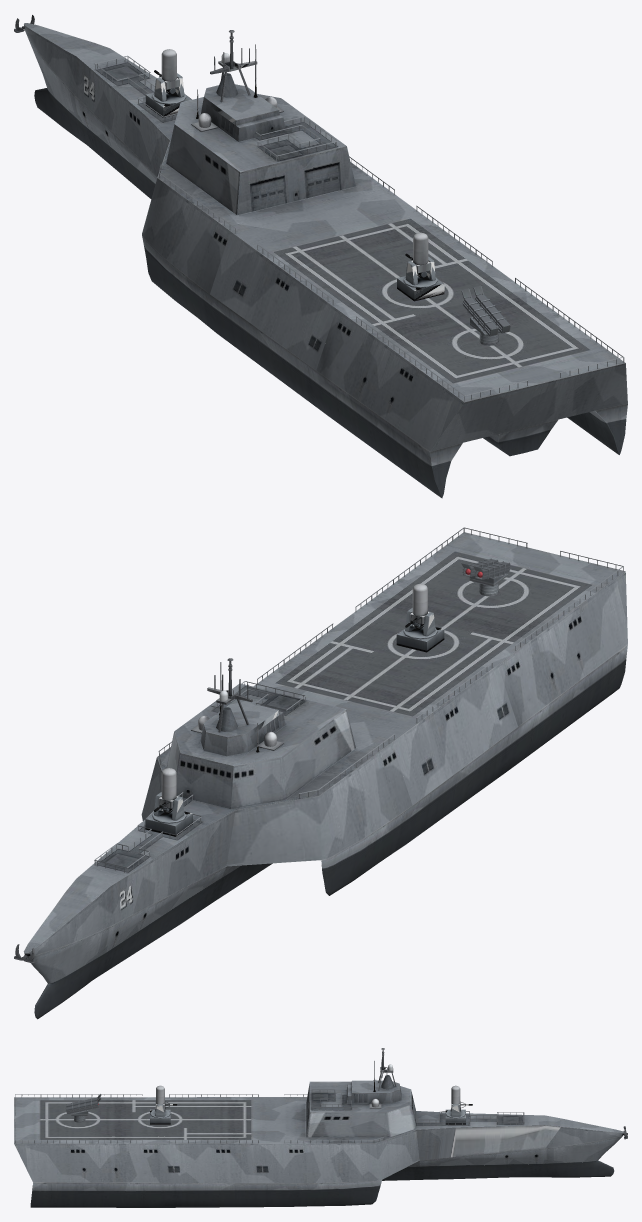
The model's file is lcs2.glb.
3 views of the same model, one above another, from view 1: azimuth 30°, elevation 25°; view 2: azimuth 150°, elevation 25°; view 3: azimuth 270°, elevation 25° (orthographic). The views are drawn at different scales.
Visible parts, largest first — view 1: S_lcs2; view 2: S_lcs2; view 3: S_lcs2.
Part boxes in pixels (x1,y1,x2,y2): S_lcs2: [14, 15, 627, 498]; S_lcs2: [14, 527, 627, 1019]; S_lcs2: [14, 1048, 627, 1207].
Size of the model in its own units: 47.99 by 51.66 by 214.
3 materials, 3 textured.
